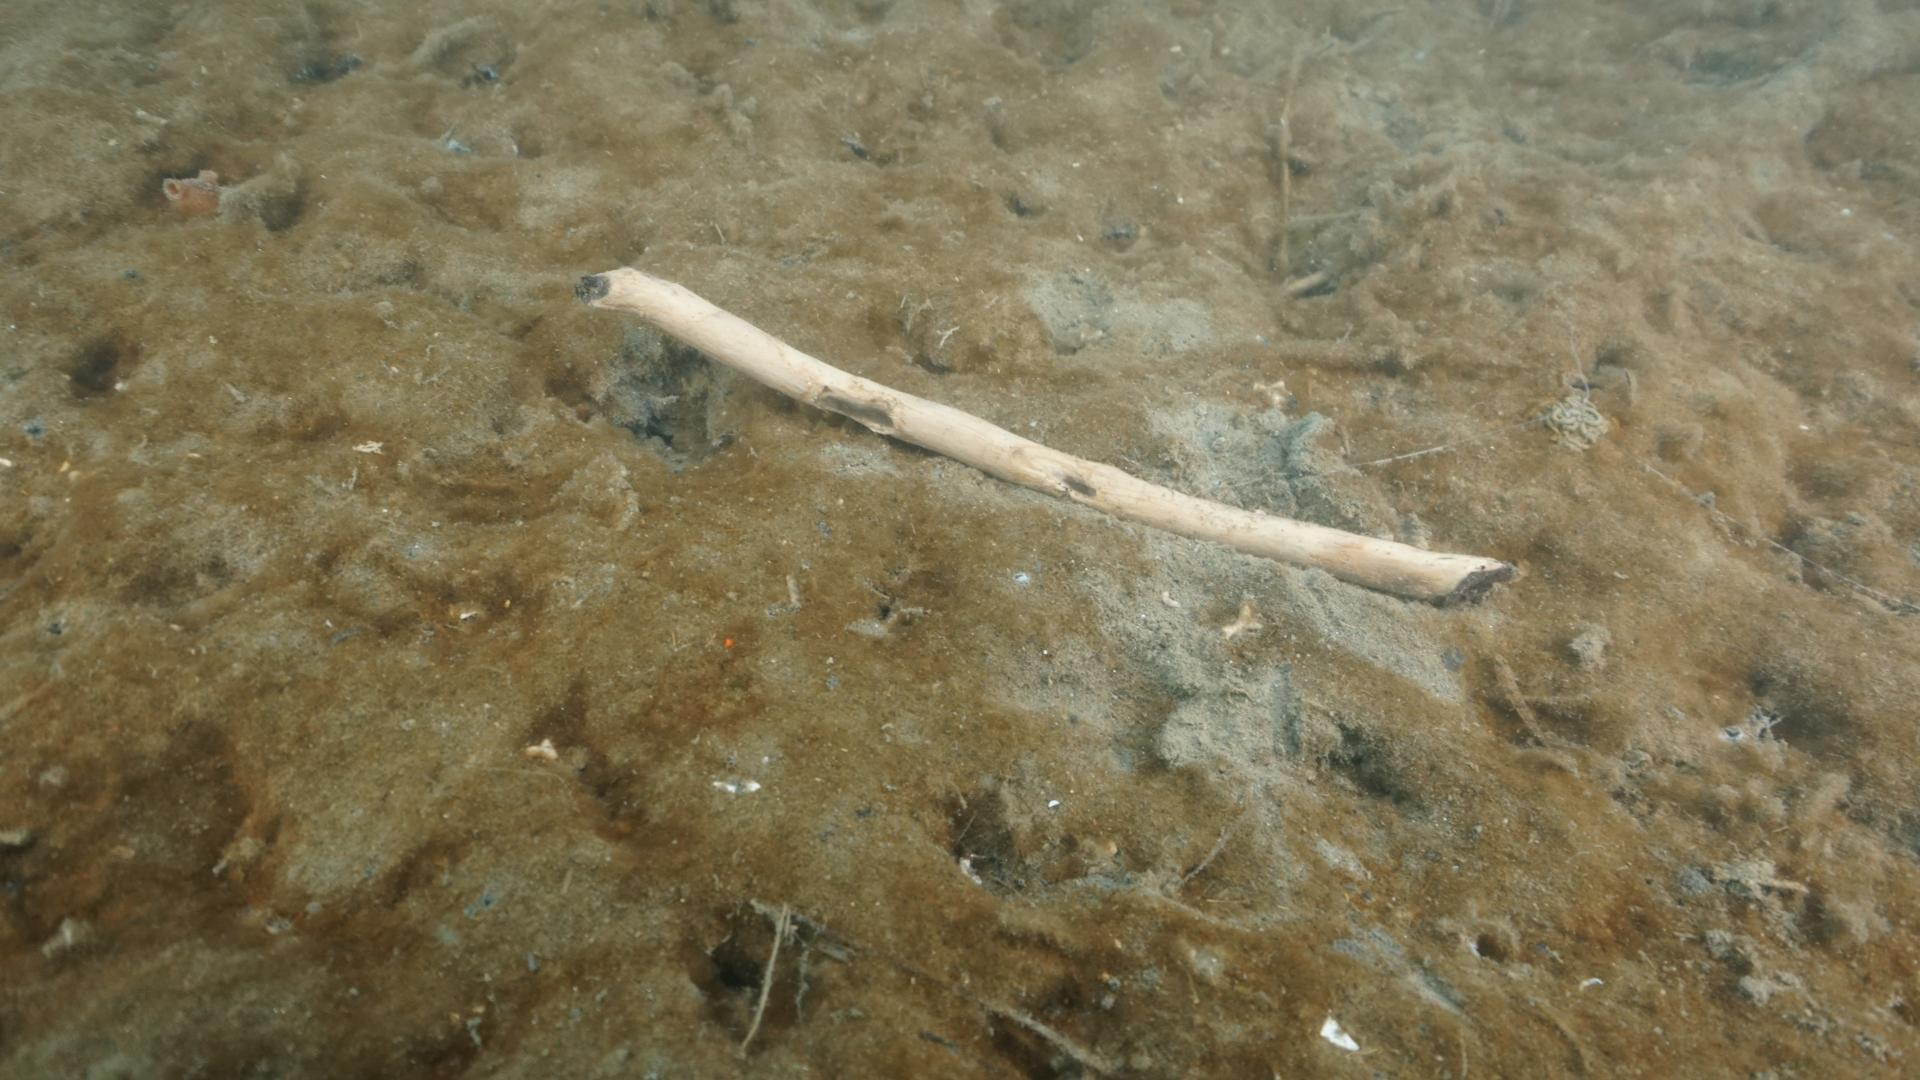wood: (583, 260, 1516, 611)
